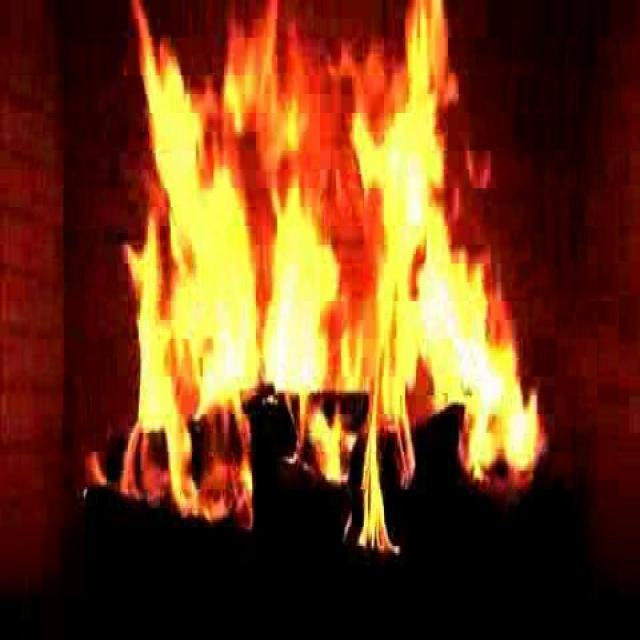Fire: (118, 28, 530, 515)
